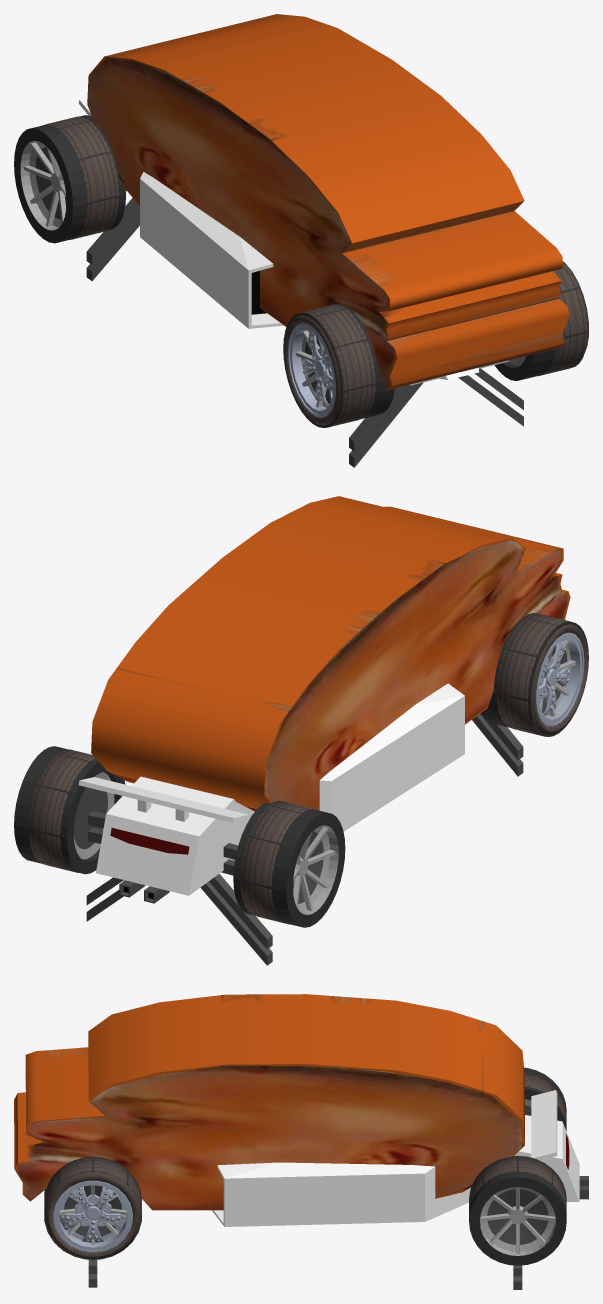
The model's file is dababy.glb.
3 renders of one model, top to bottom at view 1: azimuth 30°, elevation 25°; view 2: azimuth 150°, elevation 25°; view 3: azimuth 270°, elevation 25°, orthographic. The views are drawn at different scales.
Visible parts, largest first — view 1: Body, Body.001, WheelFR, WheelBR.001, WheelBR, WheelFR.001, WheelFL, SuspensionFR.001, SuspensionBR.001, WheelFL.001, SuspensionFL.001; view 2: Body, Body.001, WheelFR, WheelBR.001, WheelBL.001, WheelBR, WheelBL, WheelFR.001, SuspensionBR.001, SuspensionFR.001, Suspension.001, SuspensionBL.001; view 3: Body, Body.001, WheelBL.001, WheelFL, WheelFL.001, WheelBL, WheelBR.001, WheelBR.
Part boxes in pixels (x1=…): Body: x1=87, y1=14, x2=569, y2=389; Body.001: x1=78, y1=97, x2=508, y2=385; WheelFR: x1=283, y1=304, x2=375, y2=427; WheelBR.001: x1=14, y1=115, x2=125, y2=243; WheelBR: x1=43, y1=116, x2=118, y2=239; WheelFR.001: x1=283, y1=304, x2=394, y2=427; WheelFL: x1=538, y1=261, x2=588, y2=376; SuspensionFR.001: x1=349, y1=382, x2=423, y2=467; SuspensionBR.001: x1=86, y1=198, x2=139, y2=281; WheelFL.001: x1=494, y1=261, x2=587, y2=380; SuspensionFL.001: x1=458, y1=368, x2=523, y2=426; Body: x1=91, y1=496, x2=570, y2=811; Body.001: x1=78, y1=683, x2=464, y2=903; WheelFR: x1=496, y1=613, x2=588, y2=736; WheelBR.001: x1=233, y1=801, x2=345, y2=927; WheelBL.001: x1=14, y1=746, x2=125, y2=874; WheelBR: x1=240, y1=801, x2=314, y2=924; WheelBL: x1=28, y1=749, x2=94, y2=872; WheelFR.001: x1=481, y1=613, x2=588, y2=736; SuspensionBR.001: x1=200, y1=873, x2=272, y2=965; SuspensionFR.001: x1=472, y1=713, x2=523, y2=776; Suspension.001: x1=88, y1=811, x2=237, y2=875; SuspensionBL.001: x1=86, y1=877, x2=123, y2=921; Body: x1=14, y1=994, x2=524, y2=1210; Body.001: x1=212, y1=1090, x2=588, y2=1226; WheelBL.001: x1=469, y1=1155, x2=566, y2=1265; WheelFL: x1=44, y1=1158, x2=141, y2=1259; WheelFL.001: x1=44, y1=1156, x2=141, y2=1259; WheelBL: x1=469, y1=1158, x2=566, y2=1213; WheelBR.001: x1=524, y1=1067, x2=566, y2=1130; WheelBR: x1=524, y1=1073, x2=566, y2=1127.
Size of what is drawn, in the model's own units: 1.76 by 1.67 by 3.89.
10 materials, 4 textured.
